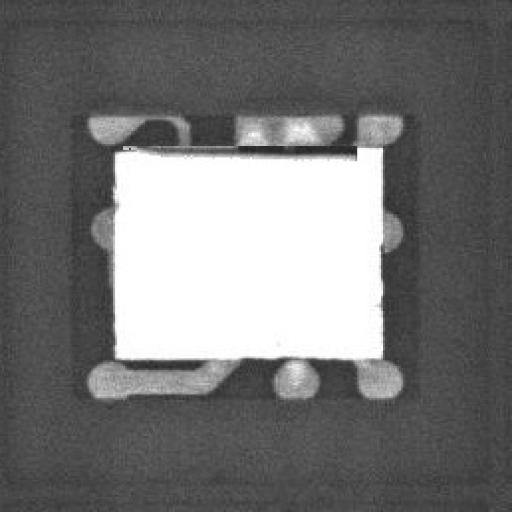DIE_BROKEN: (127, 137, 357, 161)
